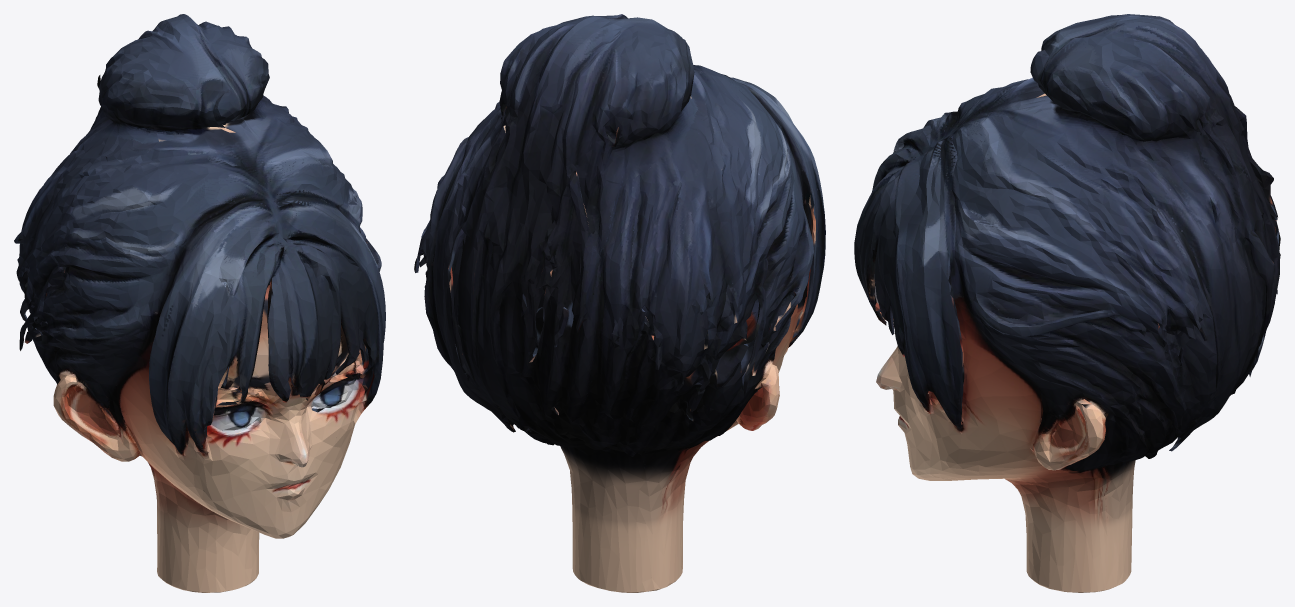
The model's file is side_kurako_repaired_atlas.glb.
3 renders of one model, left to right at view 1: azimuth 30°, elevation 25°; view 2: azimuth 150°, elevation 25°; view 3: azimuth 270°, elevation 25°, orthographic. The views are drawn at different scales.
Visible parts, largest first — view 1: temp_mesh.ply; view 2: temp_mesh.ply; view 3: temp_mesh.ply.
Boxes of the visible parts, x1,y1,x2,y2 form: temp_mesh.ply: (14,14,385,592); temp_mesh.ply: (414,14,825,592); temp_mesh.ply: (854,14,1280,592).
Size of the model in its own units: 1.18 by 1.97 by 1.37.
Materials: 1 (1 with a texture image).
